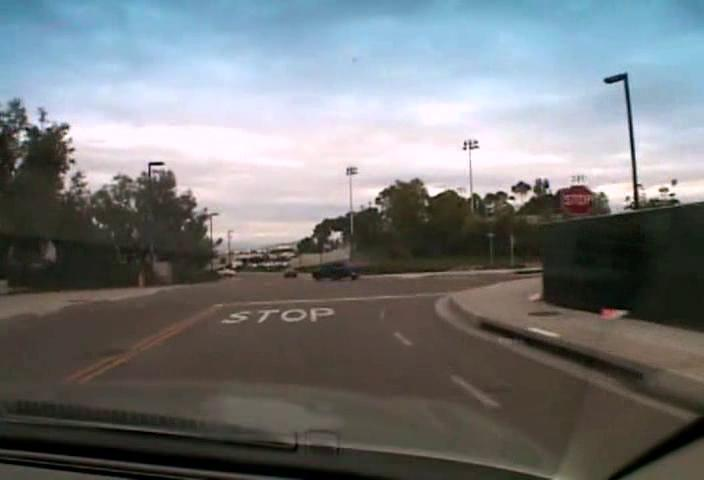stop: (560, 184, 593, 216)
